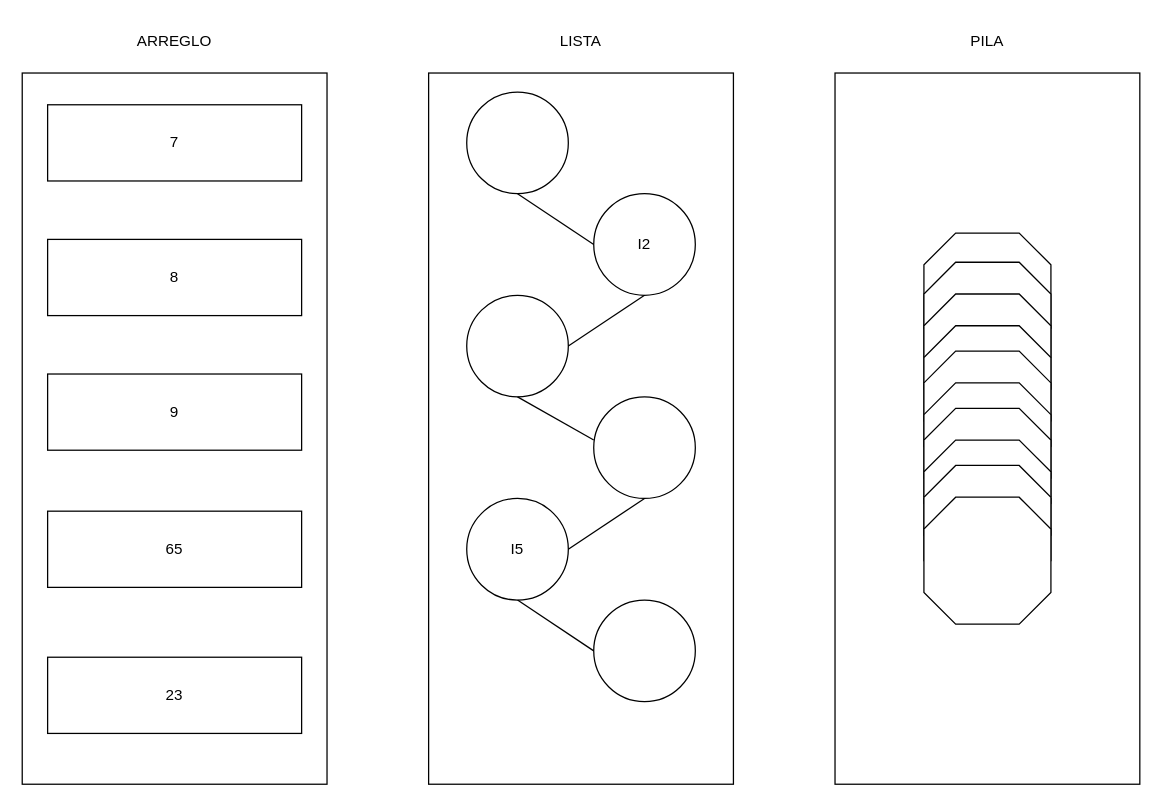
The diagram is 1162 pixels wide and 806 high, and some of its shapes have lost their labels. Each missing label, with the centre of its shape:
"I1" belongs at point 516,142.
"I3" belongs at point 516,345.
"I4" belongs at point 643,447.
"I6" belongs at point 643,650.
